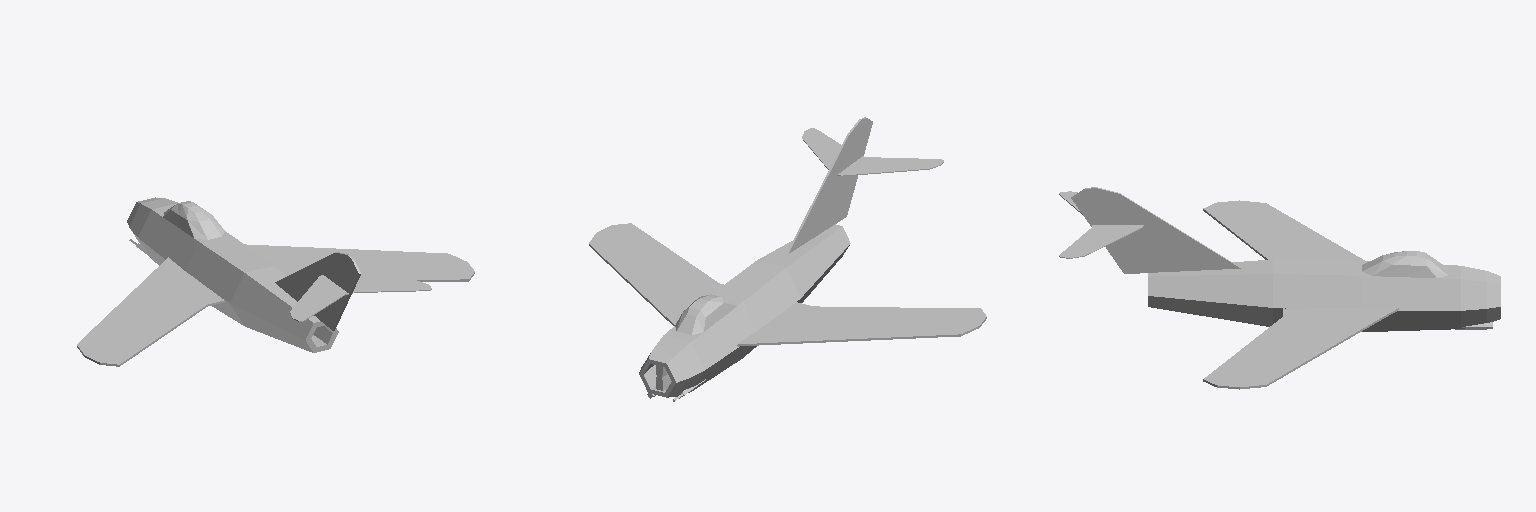
The model's file is Mig15.obj.
3 views of the same model, side by side, from view 1: azimuth 30°, elevation 25°; view 2: azimuth 150°, elevation 25°; view 3: azimuth 270°, elevation 25° (orthographic).
Visible parts, largest first — view 1: Cylinder; view 2: Cylinder; view 3: Cylinder.
Part boxes in pixels (x1,y1,x2,y2): Cylinder: (77, 197, 474, 366); Cylinder: (589, 117, 986, 401); Cylinder: (1059, 187, 1500, 389).
Bounding box in the file's own units: 12.1 × 4.15 × 12.08.